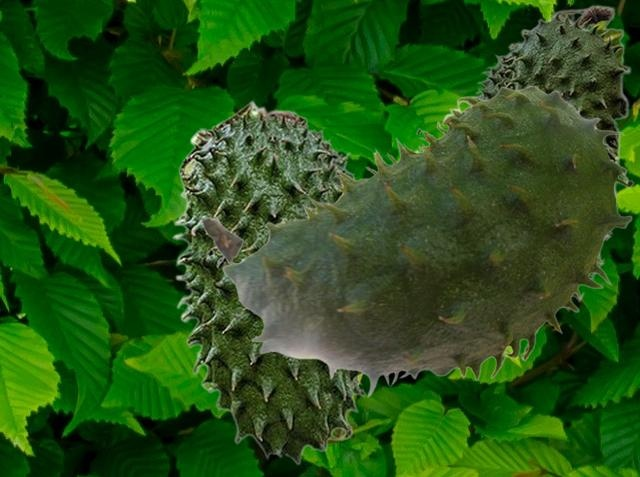guyabano: (200, 85, 633, 397), (172, 99, 370, 464), (464, 4, 630, 333)
